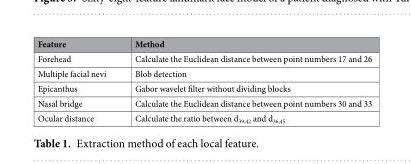table: (36, 37, 371, 124)
table column: (119, 37, 371, 124), (36, 37, 119, 124)
table column header: (36, 37, 371, 50)
table row: (36, 50, 371, 65), (36, 65, 371, 80), (36, 80, 371, 95), (36, 95, 371, 110), (36, 110, 371, 124), (36, 37, 371, 50)
